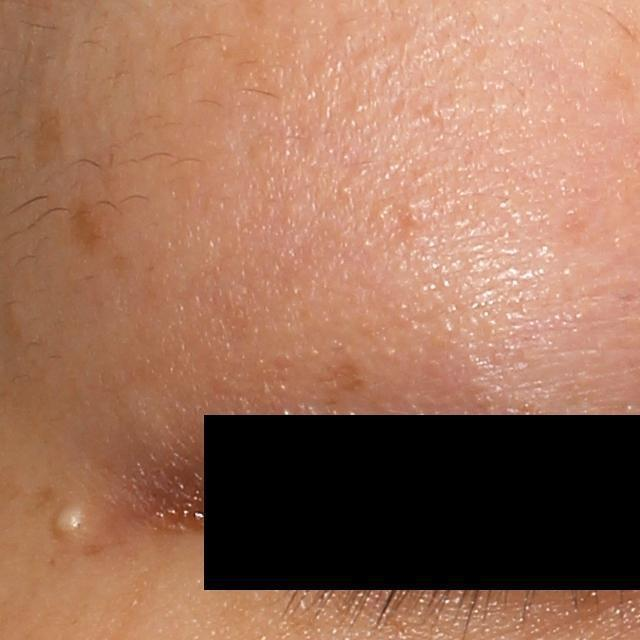melasma: (316, 356, 365, 404), (33, 106, 71, 165)
other: (42, 492, 102, 549)
